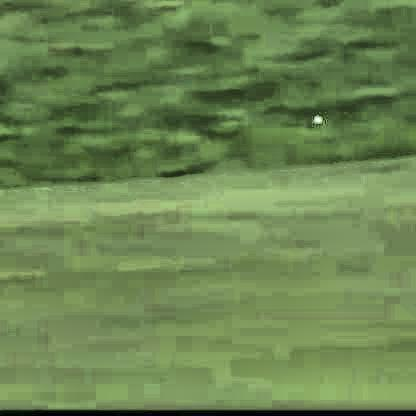golfball: (308, 114, 319, 124)
